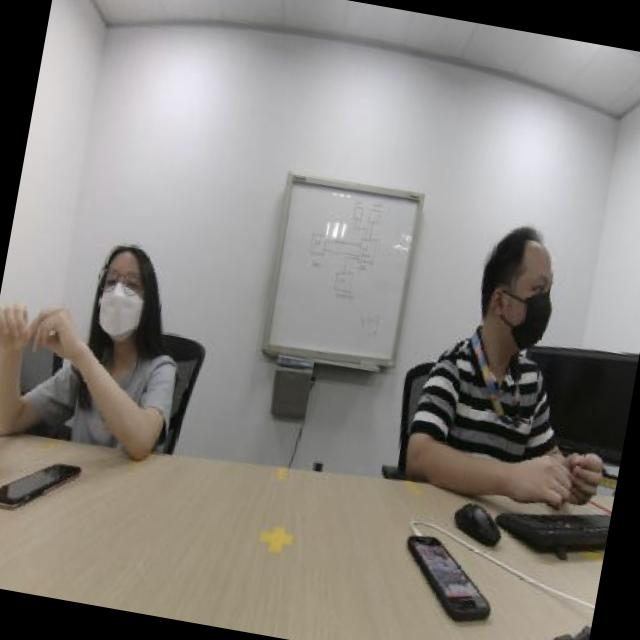Person: (0, 161, 227, 463), (396, 198, 608, 500)
